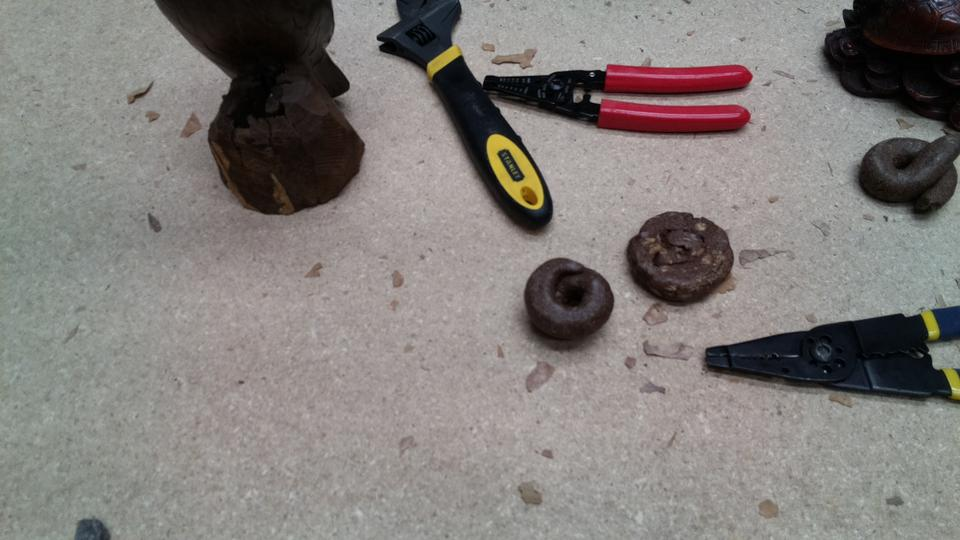poop: (623, 206, 741, 309), (855, 130, 960, 218), (520, 252, 617, 345)
